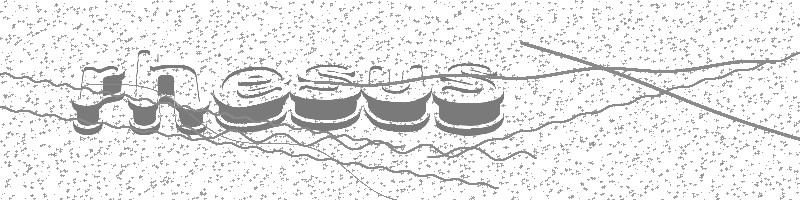e: (211, 65, 288, 130)
h: (127, 46, 211, 140)
r: (66, 60, 126, 135)
s: (431, 58, 507, 136), (290, 62, 361, 131)
u: (361, 58, 430, 131)
